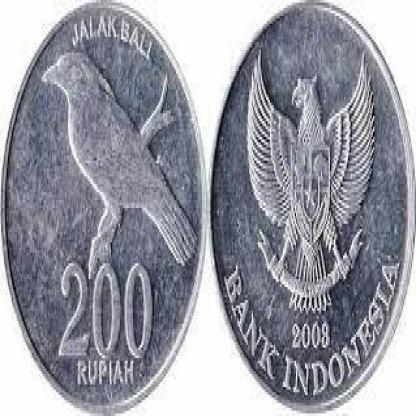coin_200_e2003: (203, 0, 416, 416), (0, 0, 207, 416)
